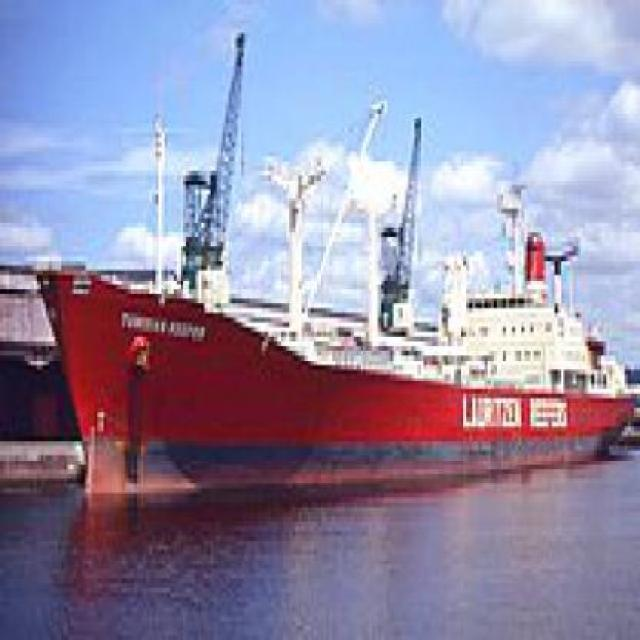container: (32, 19, 638, 532)
